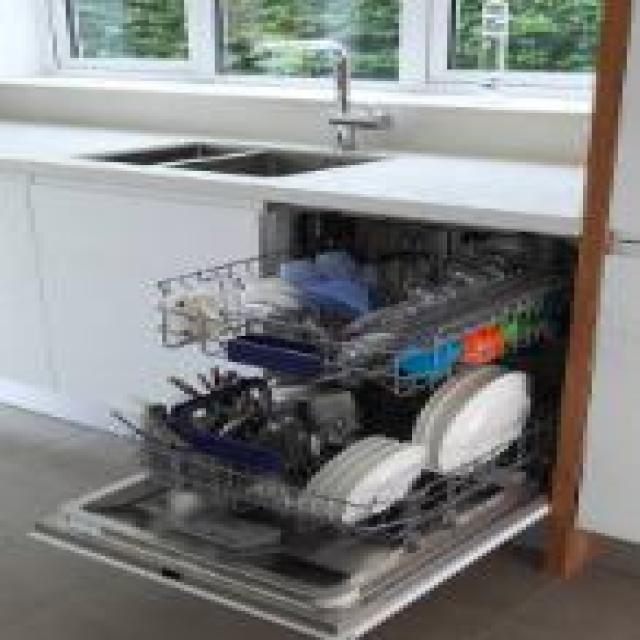dishwasher: (22, 200, 574, 637)
